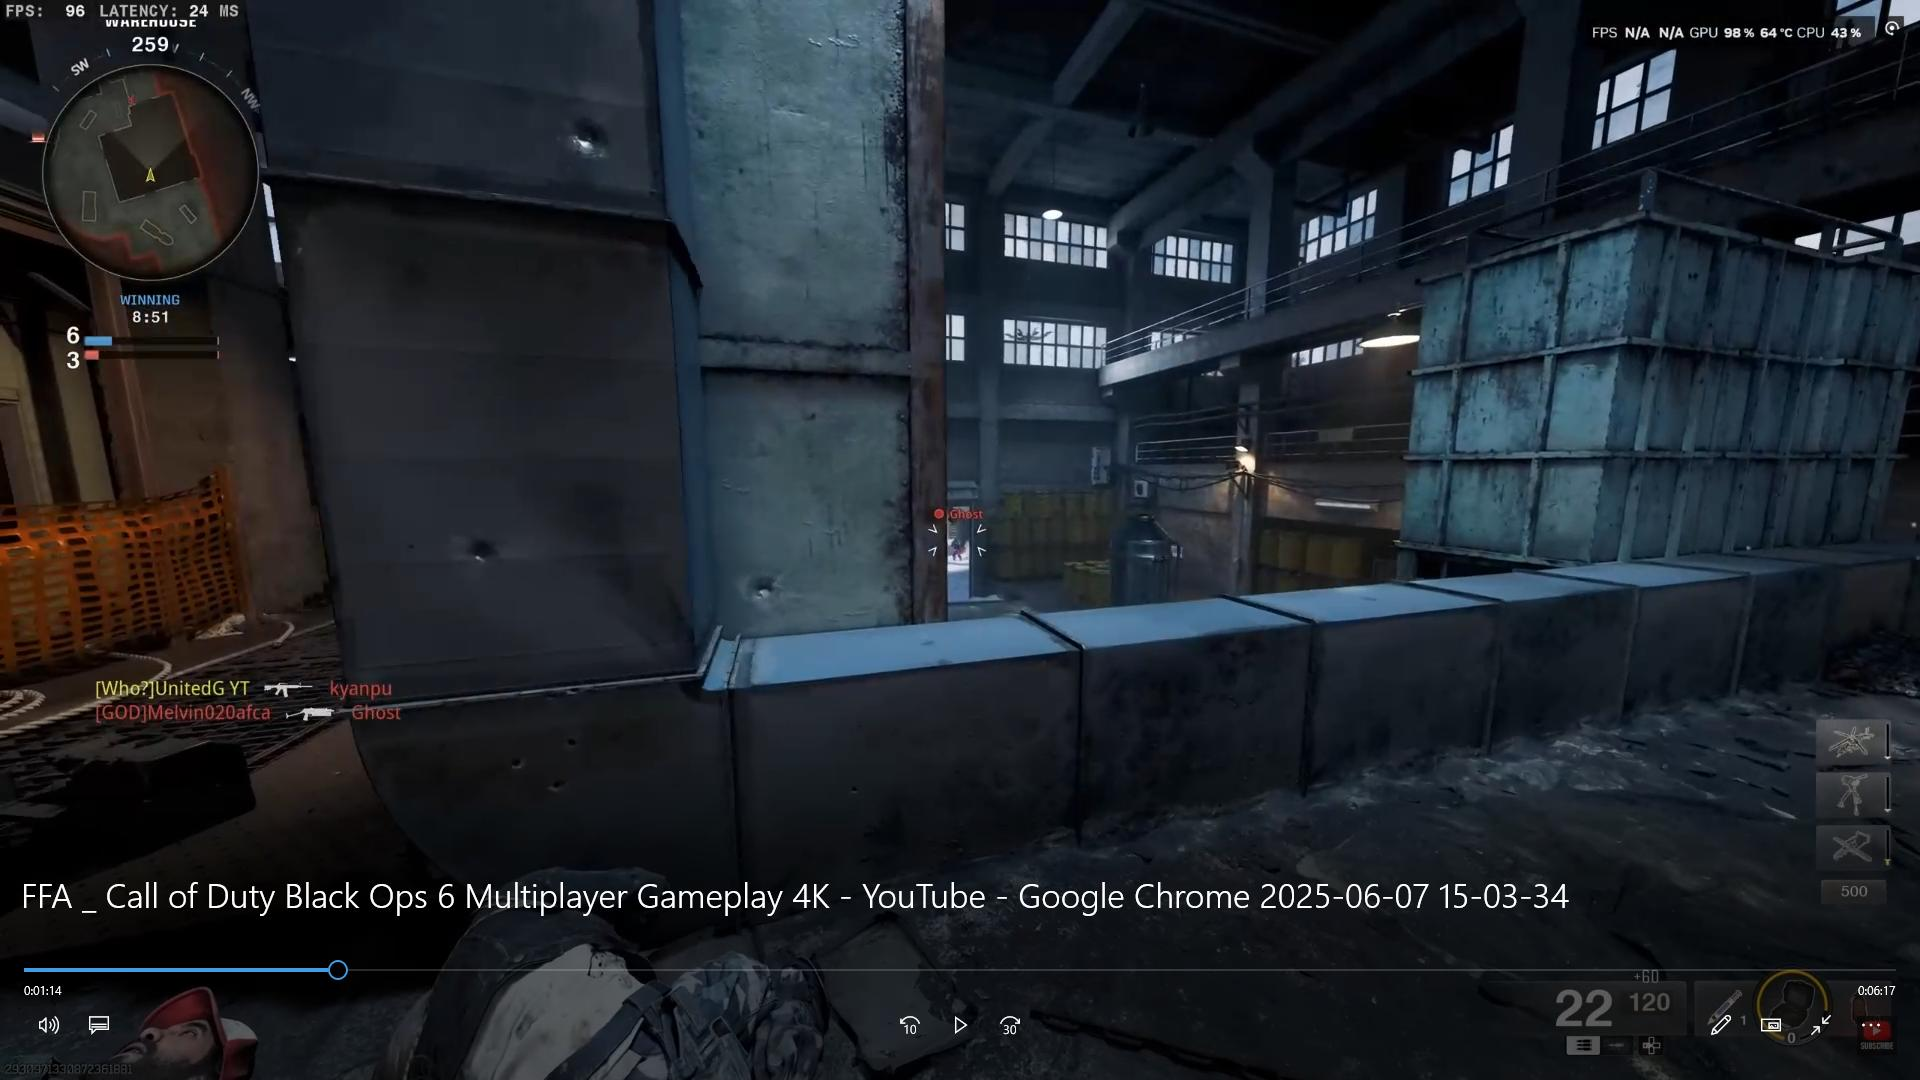Enemy: (945, 533, 971, 572)
